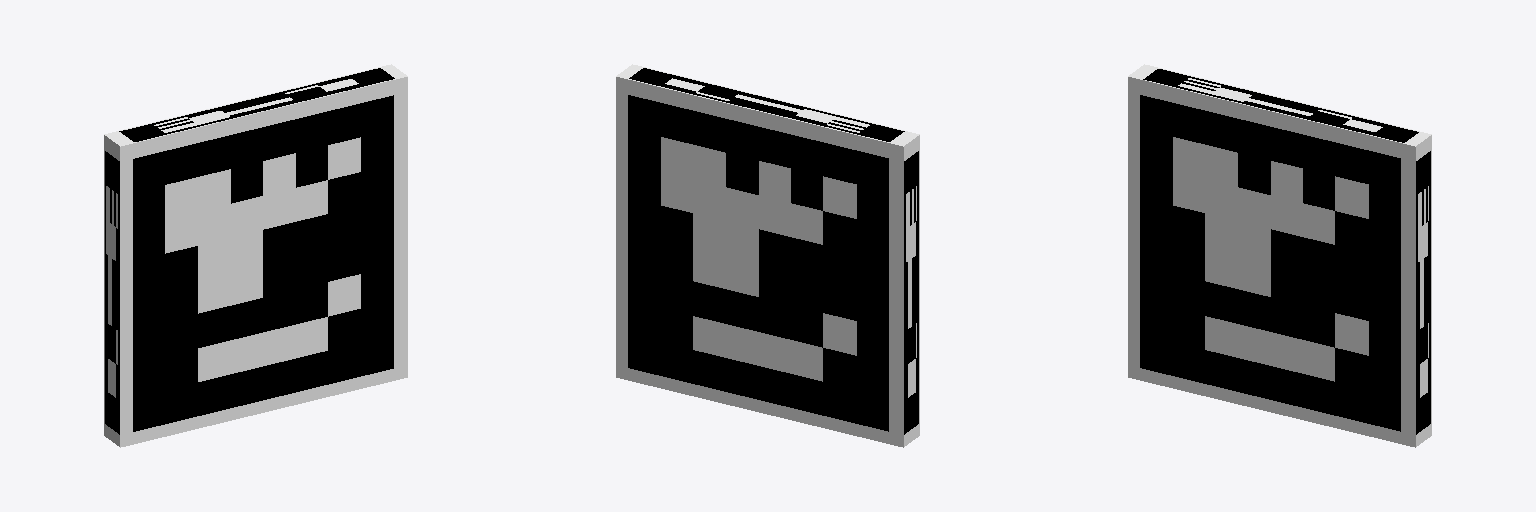
The picture shows the model from 3 angles: view 1: azimuth 30°, elevation 25°; view 2: azimuth 150°, elevation 25°; view 3: azimuth 330°, elevation 25°; orthographic projection.
Parts seen in each view (by area): view 1: Cube; view 2: Cube; view 3: Cube.
Part boxes in pixels (bbox=[...]): Cube: bbox=[104, 64, 407, 447]; Cube: bbox=[616, 64, 919, 447]; Cube: bbox=[1128, 64, 1431, 447].
Size of the model in its own units: 2 by 2 by 0.2.
1 materials, 1 textured.